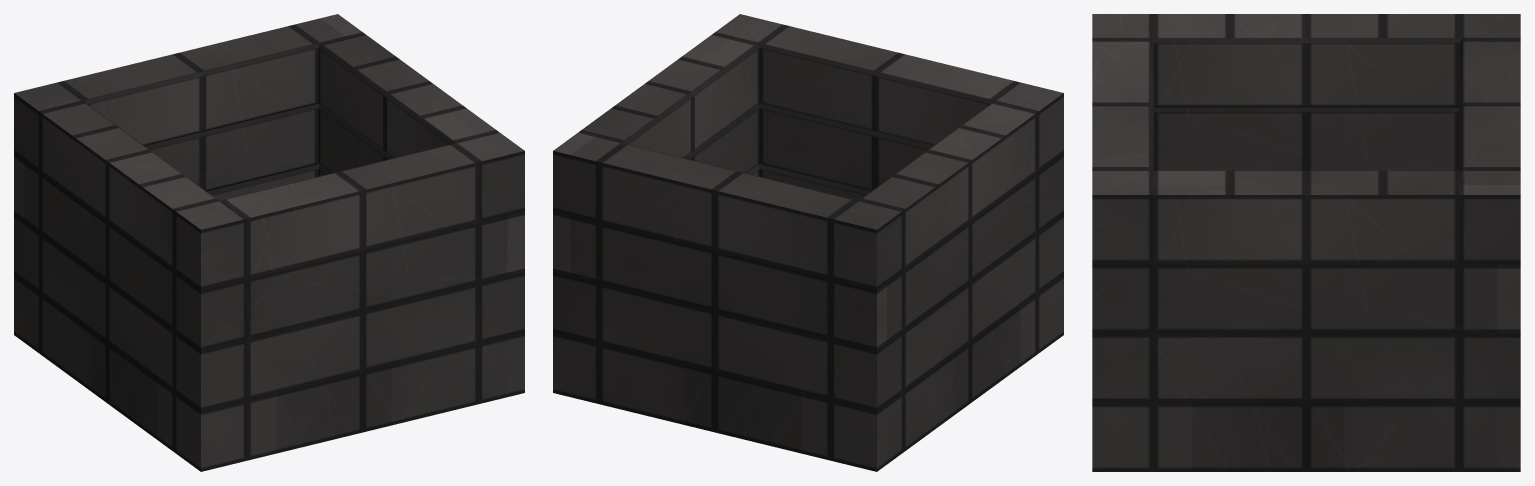
Rendered from shaft_wall_segment.glb.
The picture shows the model from 3 angles, left to right: view 1: azimuth 30°, elevation 25°; view 2: azimuth 150°, elevation 25°; view 3: azimuth 270°, elevation 25°; orthographic projection. The views are drawn at different scales.
Parts seen in each view (by area): view 1: shaft_wall_segment_mesh; view 2: shaft_wall_segment_mesh; view 3: shaft_wall_segment_mesh.
Part boxes in pixels (left/top/right/bottom): shaft_wall_segment_mesh: left=14, top=14, right=524, bottom=471; shaft_wall_segment_mesh: left=553, top=14, right=1063, bottom=471; shaft_wall_segment_mesh: left=1092, top=14, right=1520, bottom=471.
Bounding box in the file's own units: 1.4 × 1 × 1.4.
Materials: 1 (1 with a texture image).
